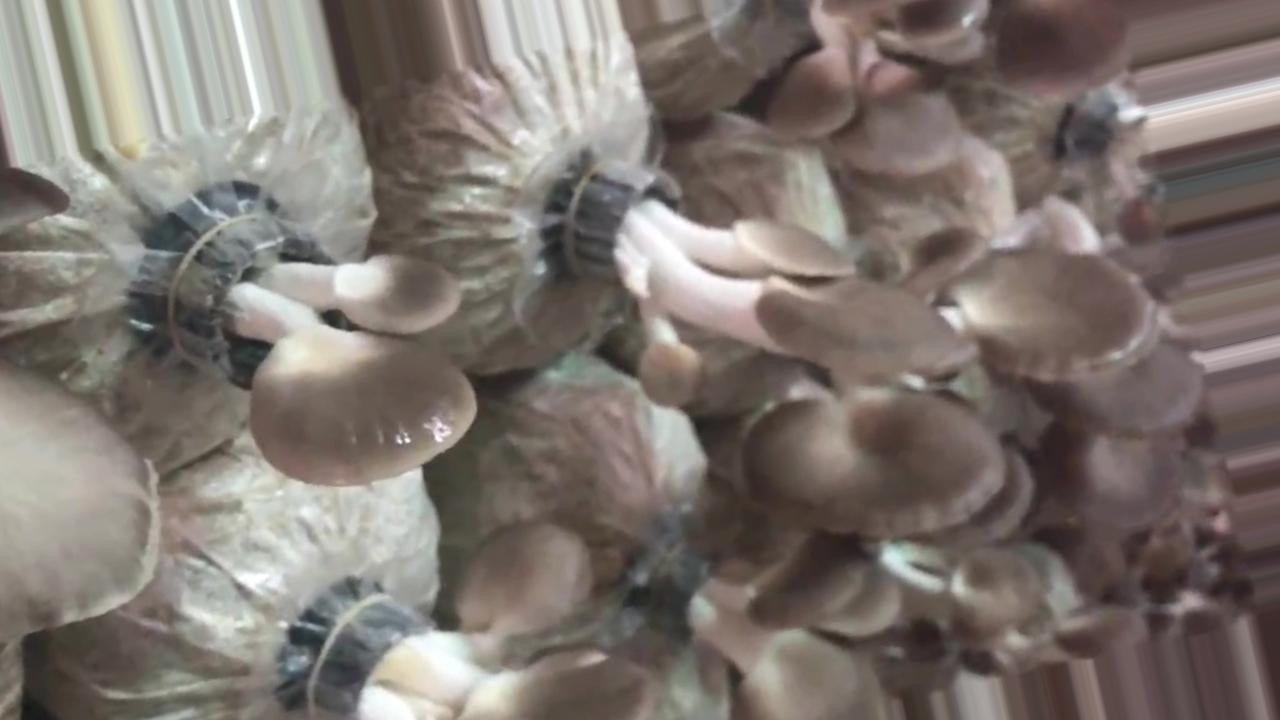nam: (570, 160, 981, 413), (163, 234, 485, 498), (291, 521, 650, 720), (628, 523, 901, 720), (953, 256, 1163, 378)
